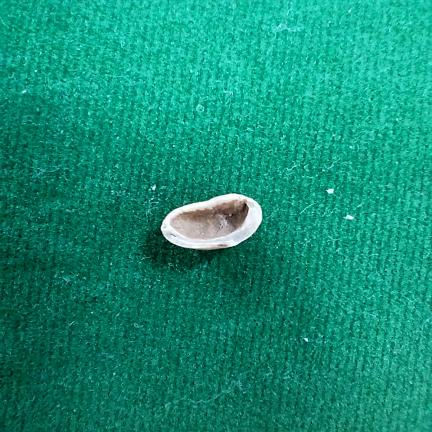shell: (161, 194, 262, 250)
